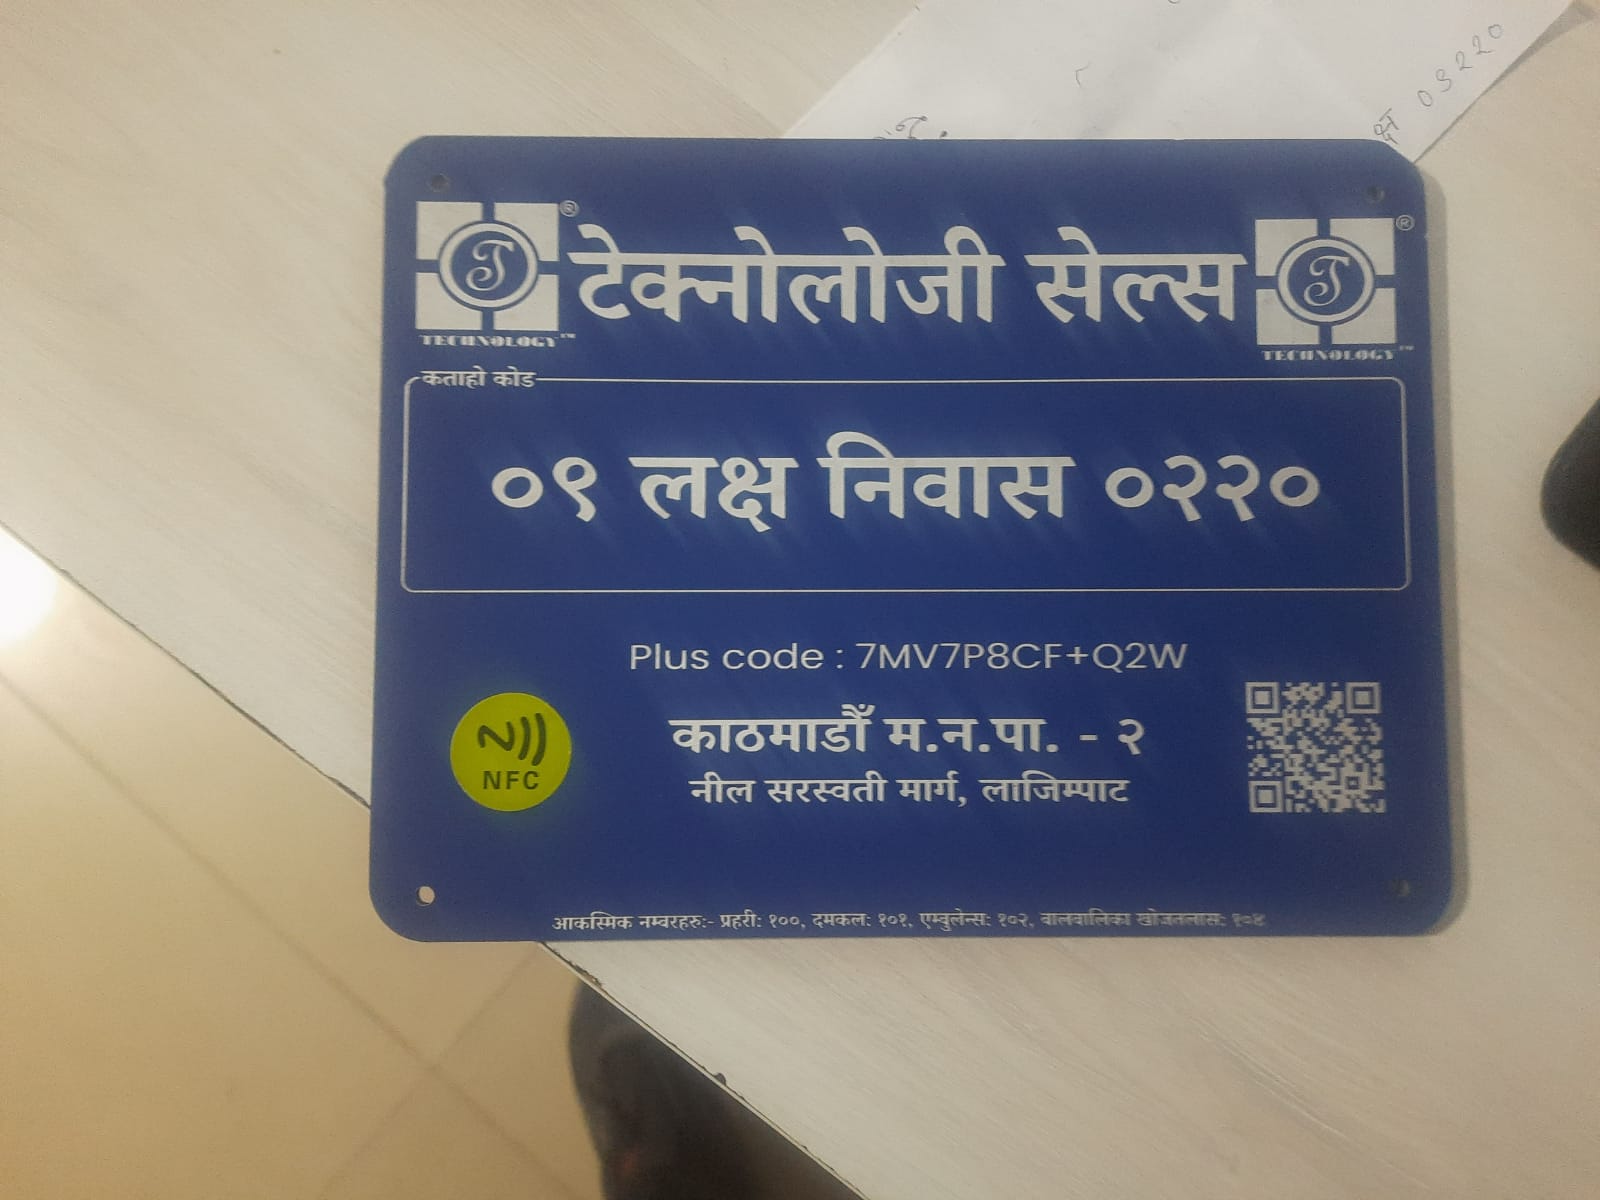Plate: (360, 118, 1458, 948)
